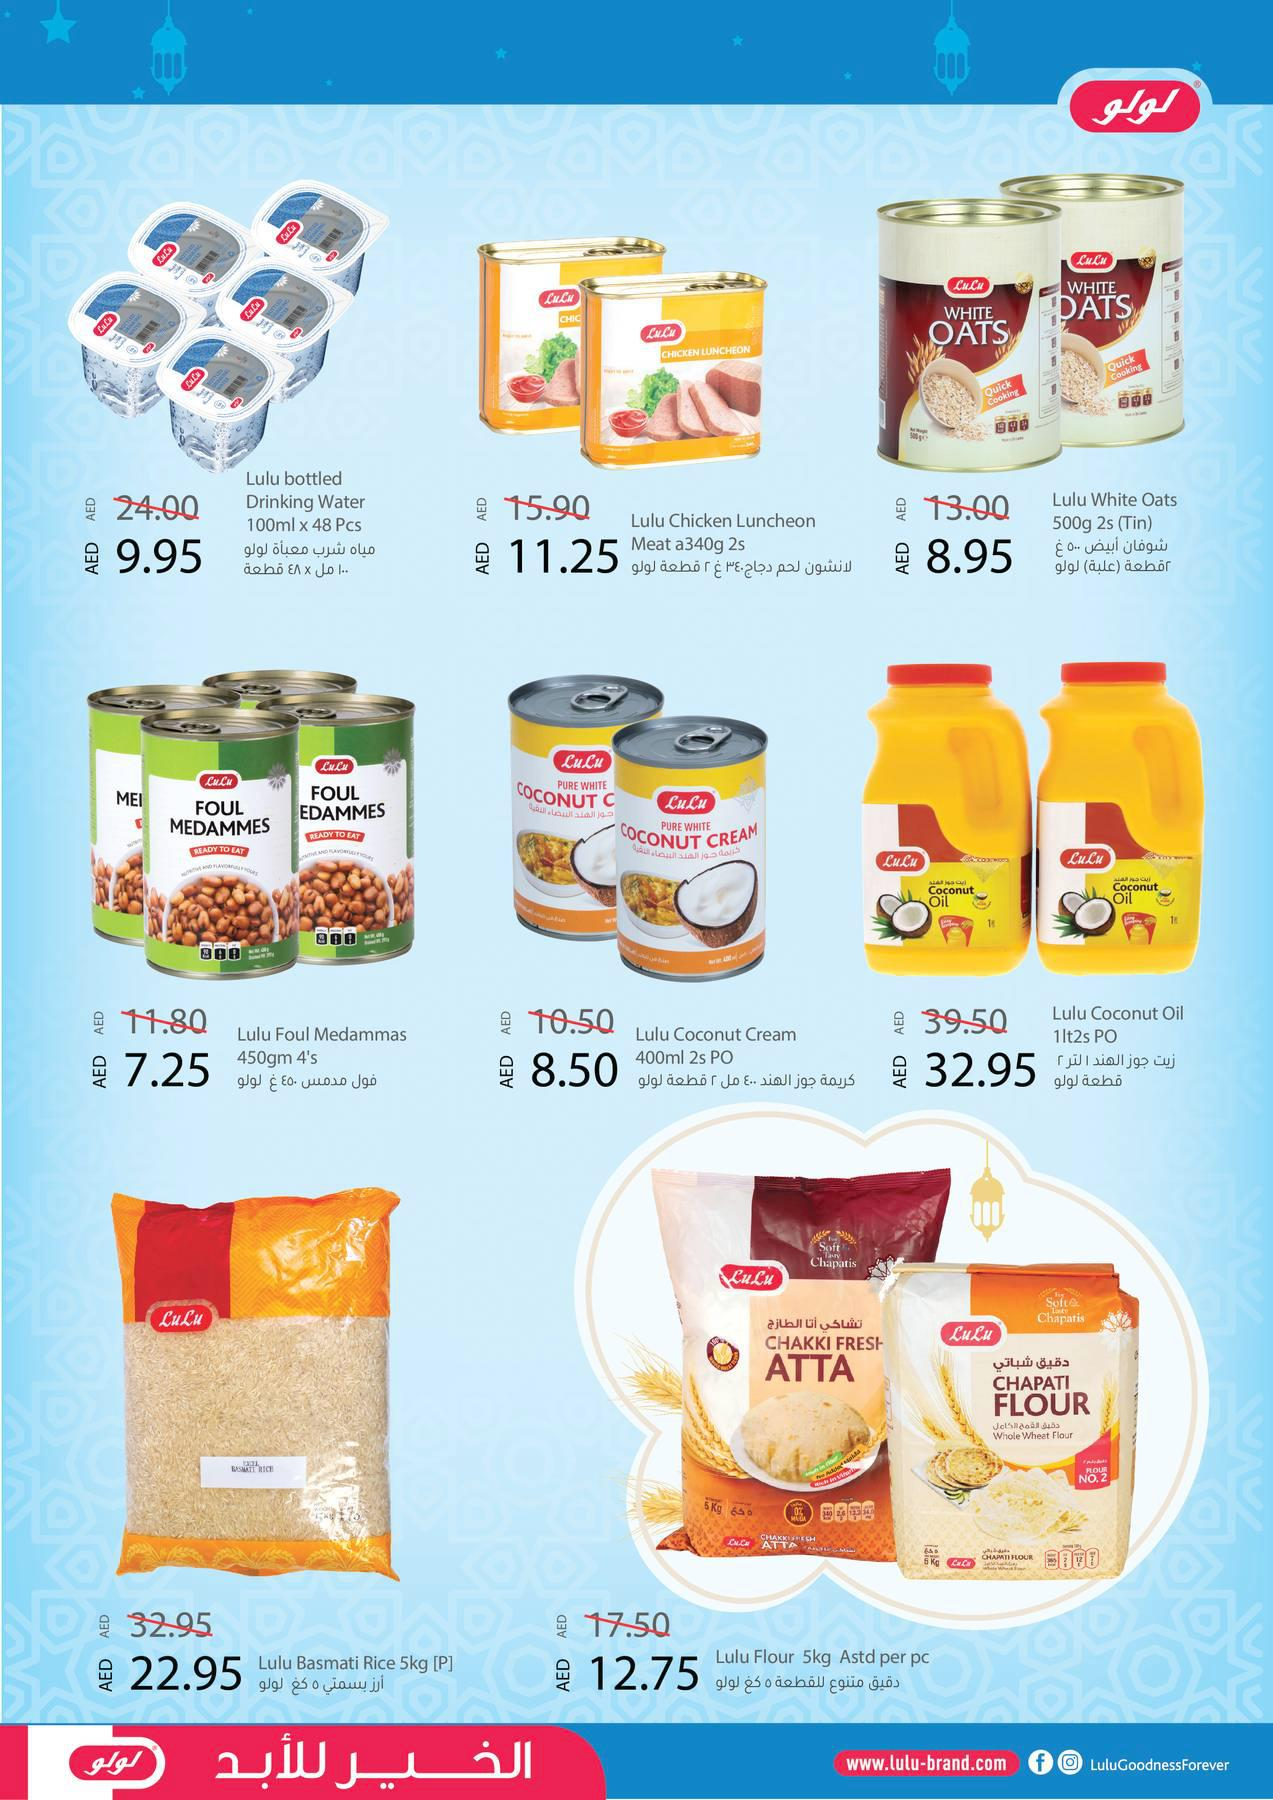text: (624, 488, 878, 596), (1033, 471, 1218, 611), (236, 461, 405, 594), (627, 1012, 868, 1103), (1042, 992, 1214, 1111), (705, 1633, 940, 1710), (230, 1014, 413, 1111), (248, 1646, 466, 1704)
